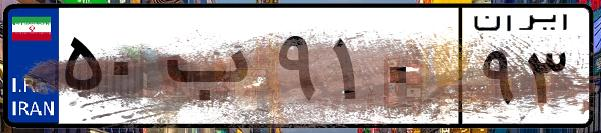0: (385, 28, 445, 110), (110, 28, 158, 98)
1: (330, 28, 385, 110)
3: (525, 38, 570, 115)
5: (57, 26, 110, 100)
9: (270, 28, 330, 110), (475, 38, 525, 113)
ب: (158, 20, 270, 120)
